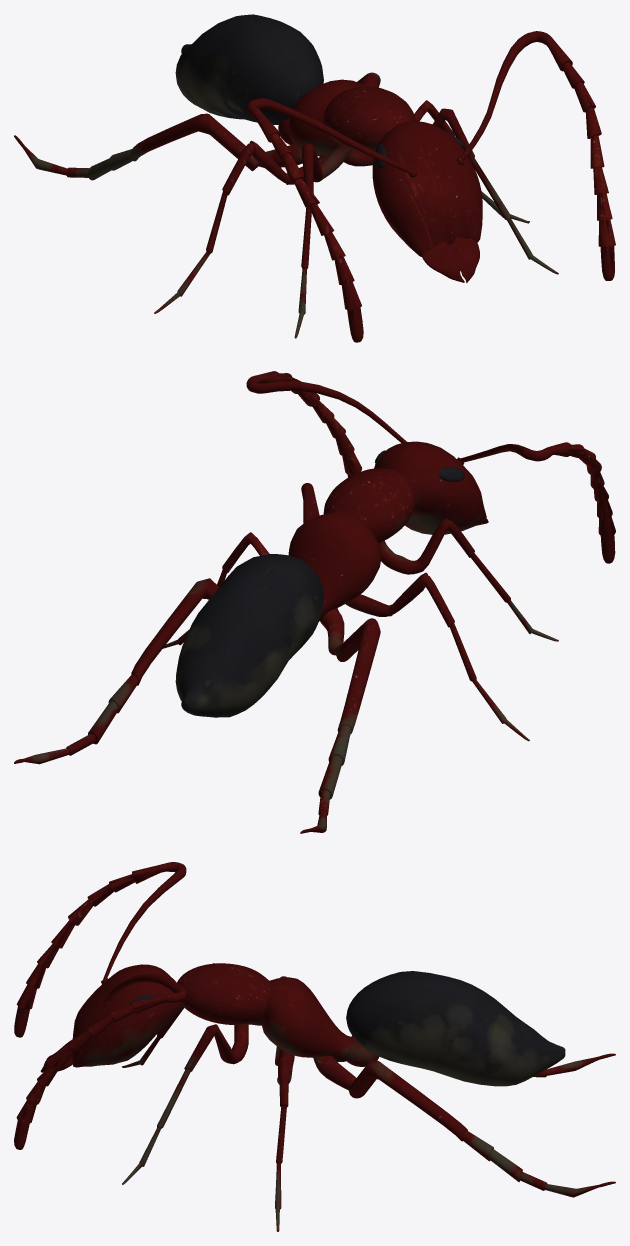
The model's file is ant_black.glb.
3 renders of one model, top to bottom at view 1: azimuth 30°, elevation 25°; view 2: azimuth 150°, elevation 25°; view 3: azimuth 270°, elevation 25°, orthographic. The views are drawn at different scales.
Visible parts, largest first — view 1: defaultMaterial; view 2: defaultMaterial; view 3: defaultMaterial.
Part boxes in pixels (left/top/right/bottom): defaultMaterial: left=14, top=14, right=615, bottom=342; defaultMaterial: left=14, top=371, right=615, bottom=833; defaultMaterial: left=14, top=862, right=615, bottom=1231.
Size of the model in its own units: 7.63 by 4.72 by 11.57.
Materials: 1 (1 with a texture image).
